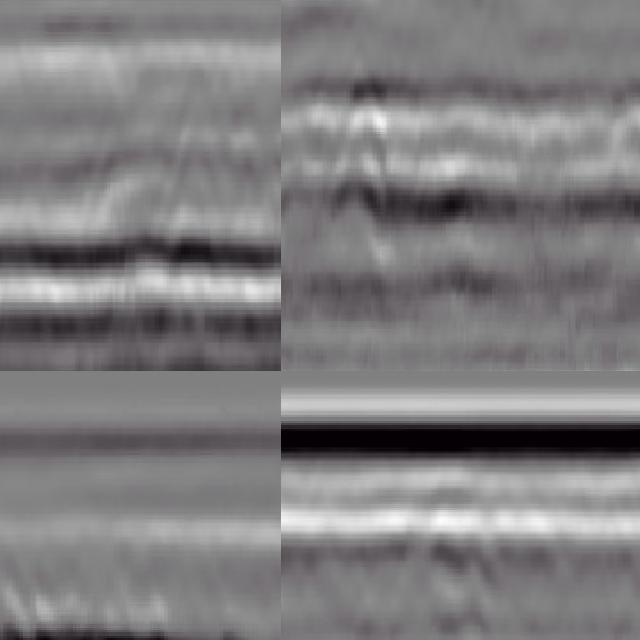loose: (1, 570, 176, 640)
